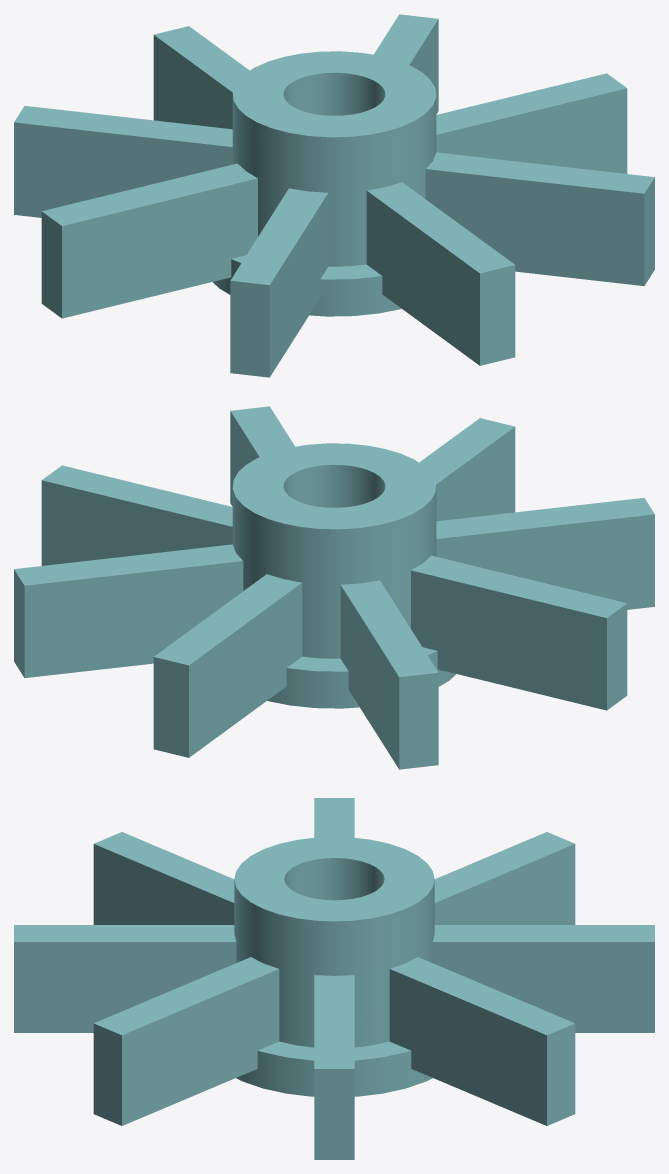
File: 09_paddle_impeller.glb
3 views of the same model, one above another, from view 1: azimuth 30°, elevation 25°; view 2: azimuth 150°, elevation 25°; view 3: azimuth 270°, elevation 25° (orthographic).
Parts seen in each view (by area): view 1: body; view 2: body; view 3: body.
Boxes of the visible parts, <box> form: body: <box>14,14,654,377</box>; body: <box>14,406,654,769</box>; body: <box>14,798,654,1159</box>.
Bounding box in the file's own units: 64 × 18 × 64.
